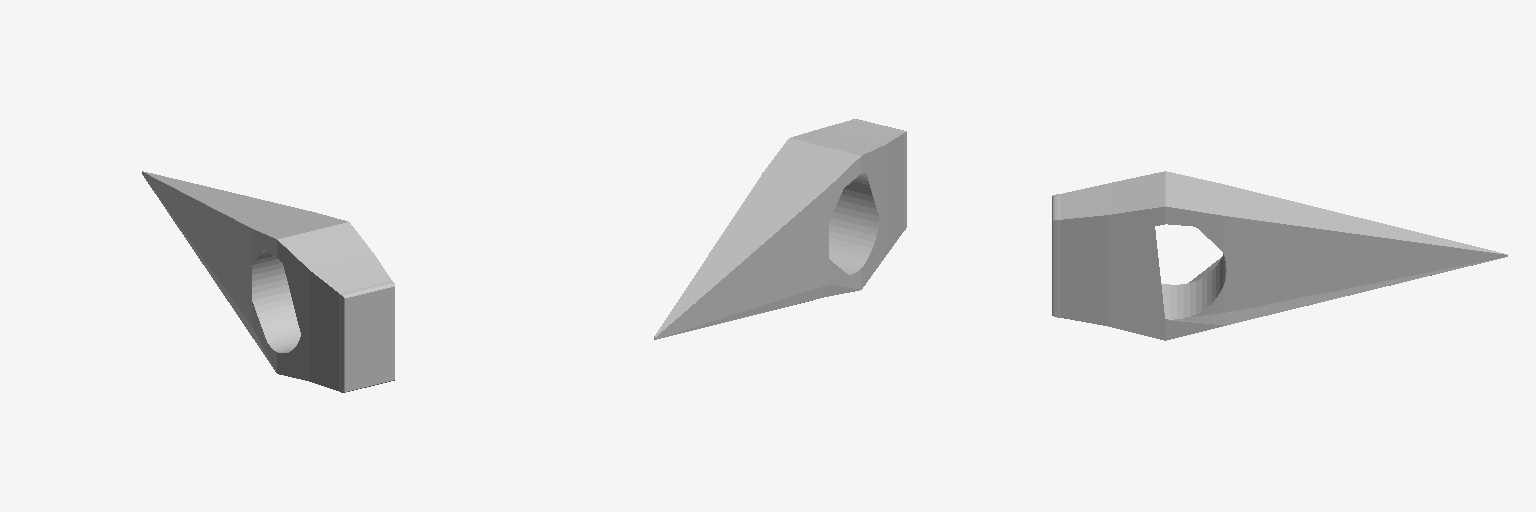
File: nahodkakopaene.obj
The picture shows the model from 3 angles: view 1: azimuth 30°, elevation 25°; view 2: azimuth 150°, elevation 25°; view 3: azimuth 270°, elevation 25°; orthographic projection.
Parts seen in each view (by area): view 1: Cube_Cube.001; view 2: Cube_Cube.001; view 3: Cube_Cube.001.
Part boxes in pixels (x1,y1,x2,y2): Cube_Cube.001: (142,171,394,392); Cube_Cube.001: (654,119,906,339); Cube_Cube.001: (1052,171,1507,340).
Size of the model in its own units: 1.26 by 2.24 by 6.87.